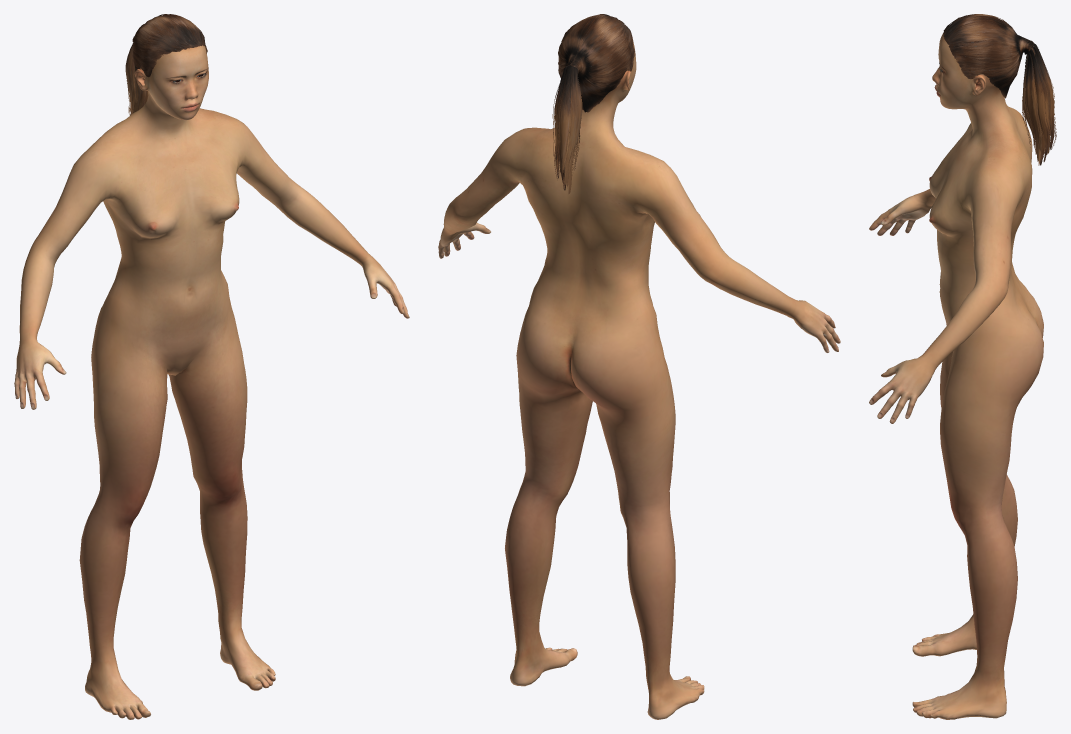
File: makehuman-female-detailed.glb
3 renders of one model, left to right at view 1: azimuth 30°, elevation 25°; view 2: azimuth 150°, elevation 25°; view 3: azimuth 270°, elevation 25°, orthographic.
Visible parts, largest first — view 1: Athletic_man; view 2: Athletic_man; view 3: Athletic_man.
Part boxes in pixels (bbox=[...]): Athletic_man: bbox=[14, 14, 409, 719]; Athletic_man: bbox=[438, 14, 840, 719]; Athletic_man: bbox=[869, 14, 1056, 719].
Bounding box in the file's own units: 0.9157 × 1.5 × 0.3842.
Materials: 8 (8 with a texture image).
